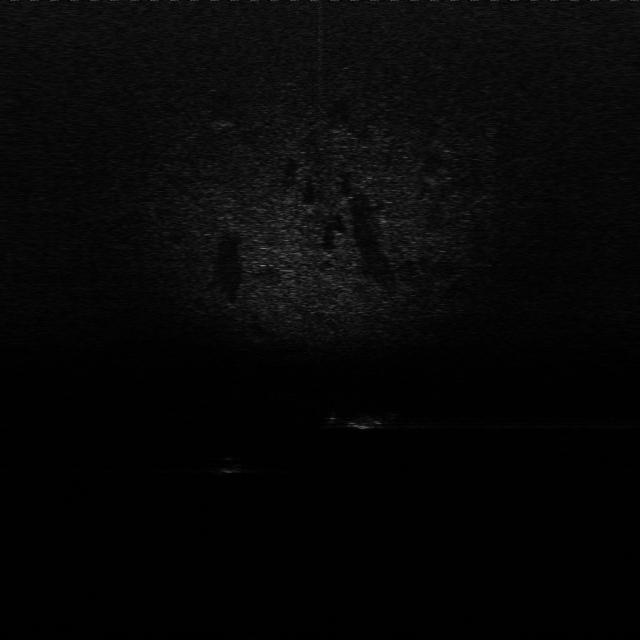ball: (216, 454, 250, 476)
human body: (322, 411, 407, 432)
